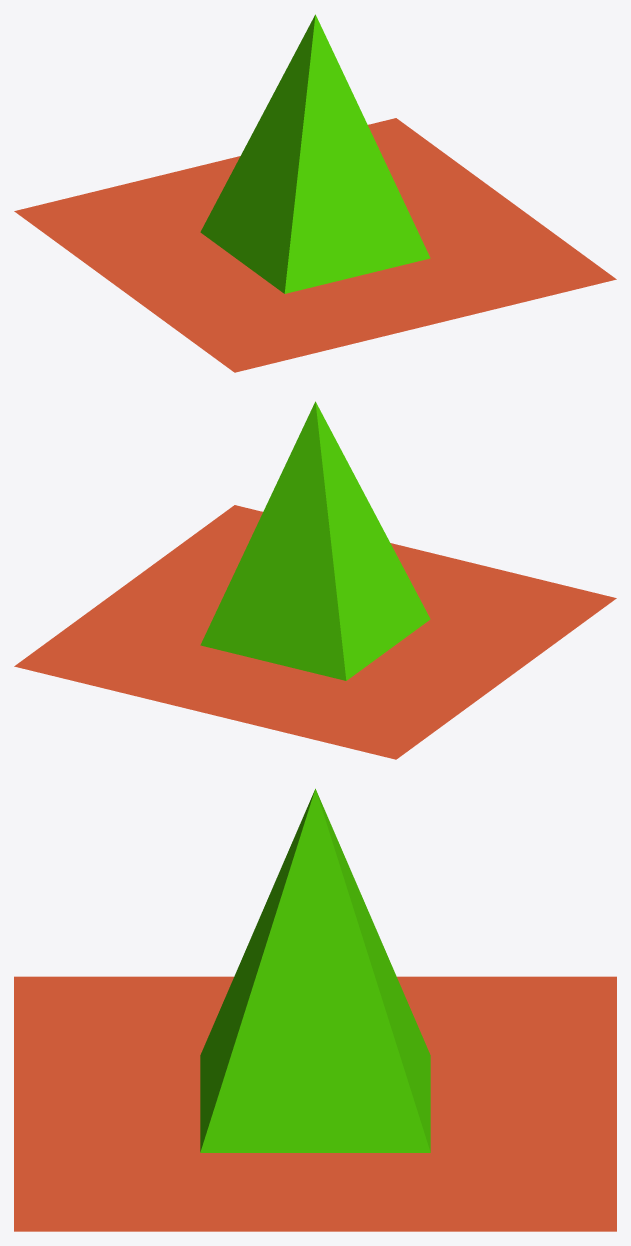
The model's file is räriteten.glb.
3 renders of one model, top to bottom at view 1: azimuth 30°, elevation 25°; view 2: azimuth 150°, elevation 25°; view 3: azimuth 270°, elevation 25°, orthographic. The views are drawn at different scales.
Parts seen in each view (by area): view 1: Plane; view 2: Plane; view 3: Plane.
Boxes of the visible parts, x1=… form: Plane: x1=14, y1=14, x2=616, y2=372; Plane: x1=14, y1=401, x2=616, y2=759; Plane: x1=14, y1=788, x2=616, y2=1231.
Size of the model in its own units: 2 by 1.16 by 2.
